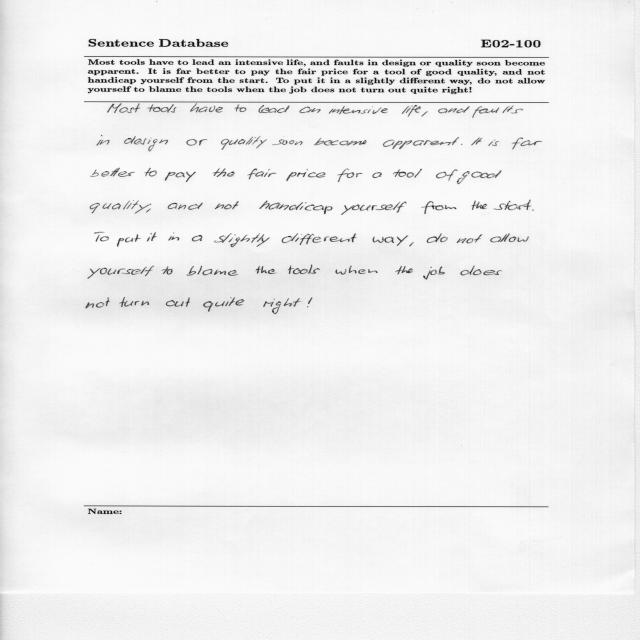word: (260, 201, 333, 215), (88, 265, 154, 279), (383, 137, 459, 149), (282, 233, 357, 245), (90, 200, 151, 214), (341, 202, 406, 215), (214, 234, 270, 248), (472, 105, 523, 118), (124, 136, 168, 151), (221, 136, 267, 150), (457, 170, 501, 184), (203, 297, 244, 312), (263, 298, 301, 314), (187, 266, 239, 276), (329, 106, 388, 114), (287, 169, 326, 181), (421, 201, 457, 214), (314, 138, 367, 146), (460, 266, 502, 276), (91, 168, 135, 177), (373, 235, 409, 246), (336, 266, 378, 275), (494, 200, 531, 210), (512, 138, 542, 150), (490, 234, 529, 243), (338, 168, 363, 182), (108, 103, 141, 113), (117, 234, 141, 247), (165, 172, 196, 182), (248, 169, 276, 180), (119, 297, 149, 307), (190, 104, 223, 113), (288, 265, 320, 274), (423, 267, 445, 280), (272, 137, 303, 146), (147, 104, 177, 113), (436, 169, 458, 181), (86, 298, 110, 309), (393, 169, 422, 178), (259, 105, 290, 113), (166, 297, 190, 307), (402, 105, 421, 117), (457, 235, 482, 244), (438, 106, 470, 113), (427, 233, 448, 243), (213, 168, 235, 177), (215, 201, 239, 209), (178, 203, 203, 210), (395, 266, 413, 275), (256, 266, 276, 274), (472, 200, 487, 210), (94, 232, 109, 242), (187, 139, 208, 146), (97, 135, 110, 146), (300, 107, 321, 113), (144, 168, 157, 177), (235, 104, 247, 112), (161, 267, 173, 275), (147, 232, 157, 241), (471, 138, 482, 146), (168, 233, 179, 241), (489, 139, 499, 146), (372, 172, 382, 178), (192, 235, 202, 241), (168, 203, 177, 209), (307, 298, 312, 308), (422, 111, 428, 117), (409, 242, 414, 246), (532, 209, 534, 211), (461, 144, 462, 145)
